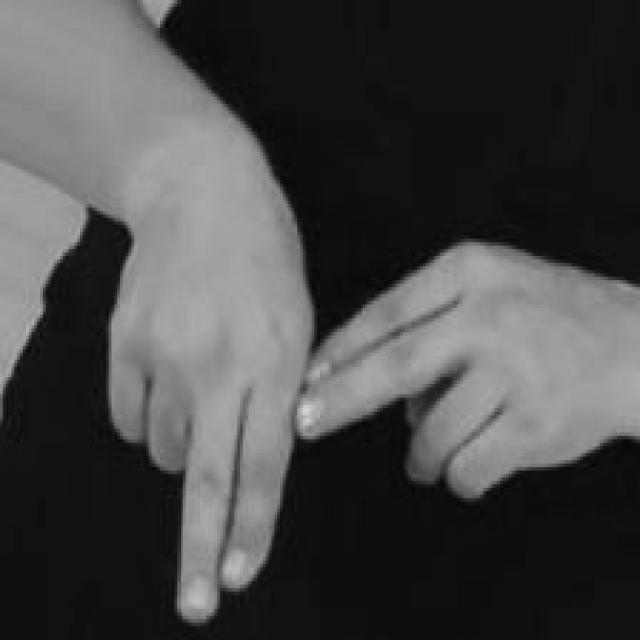K: (111, 121, 640, 619)
